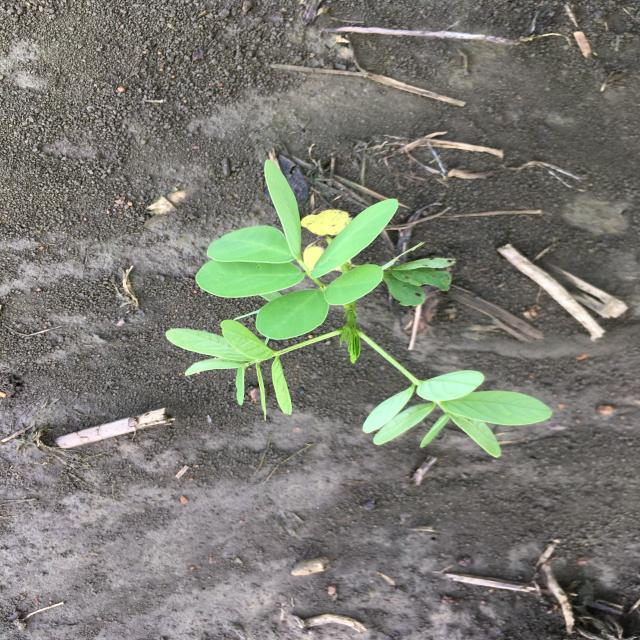Sicklepod: (163, 156, 557, 460)
